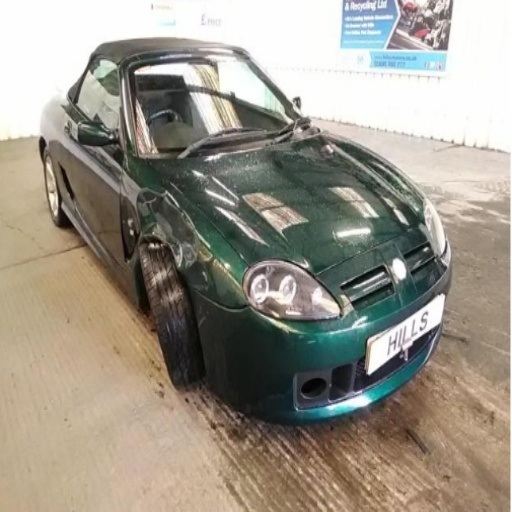dent: (137, 189, 198, 269), (120, 195, 141, 261)
scratch: (202, 270, 209, 283)
